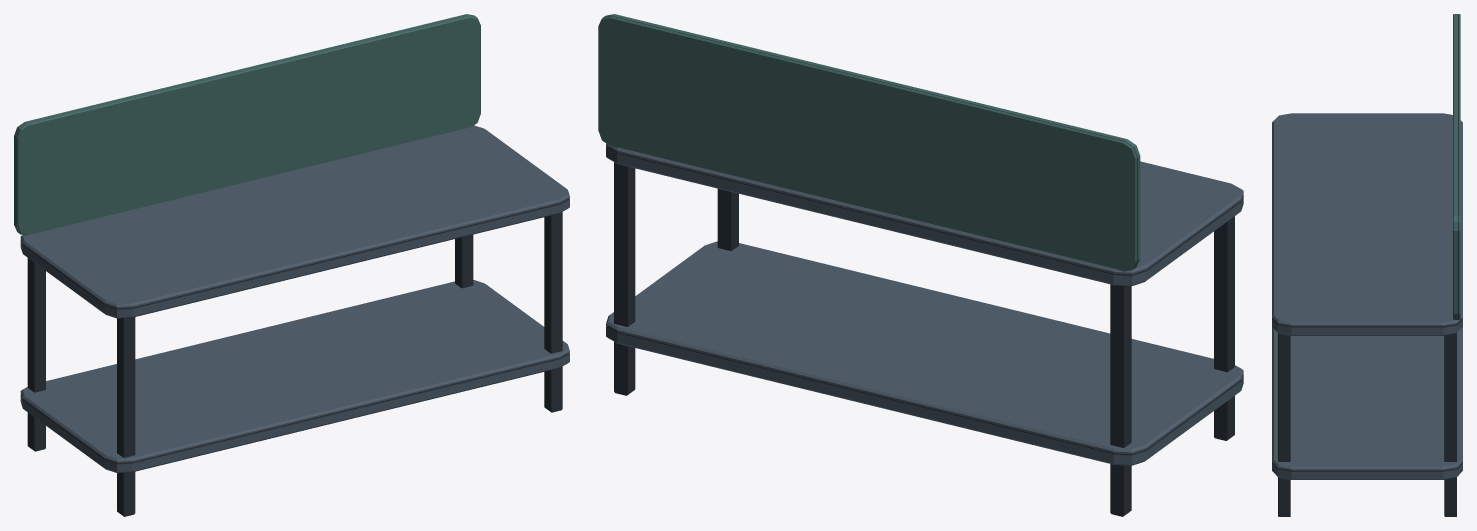
File: R-20_service_table.glb
The picture shows the model from 3 angles, left to right: view 1: azimuth 30°, elevation 25°; view 2: azimuth 150°, elevation 25°; view 3: azimuth 270°, elevation 25°; orthographic projection. The views are drawn at different scales.
Visible parts, largest first — view 1: R-20_service_table; view 2: R-20_service_table; view 3: R-20_service_table.
Boxes of the visible parts, x1=… form: R-20_service_table: x1=14, y1=14, x2=569, y2=516; R-20_service_table: x1=598, y1=14, x2=1243, y2=516; R-20_service_table: x1=1272, y1=14, x2=1462, y2=516.
Bounding box in the file's own units: 2.04 × 1.37 × 0.78.
